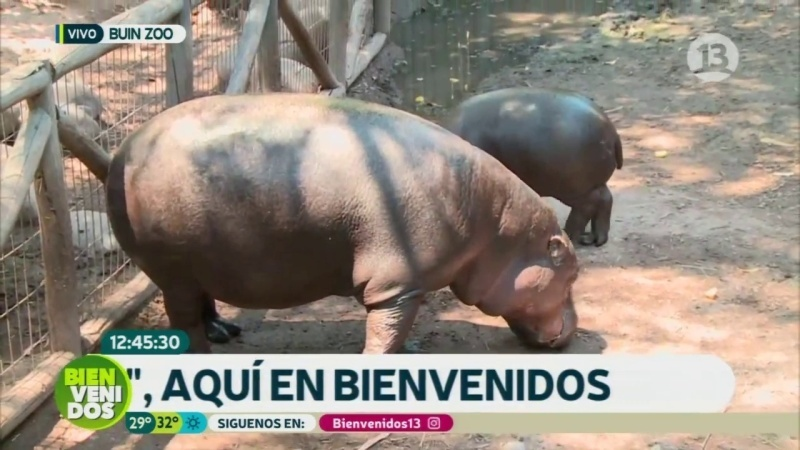hipopotamo: (95, 86, 590, 354), (433, 65, 639, 252)
